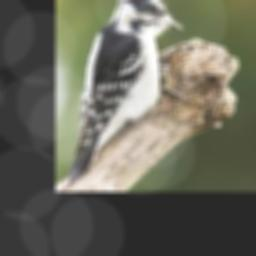Woodpecker: (61, 0, 192, 185)
